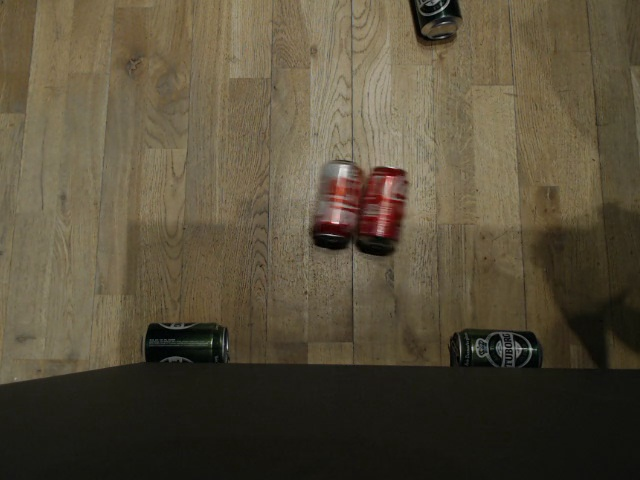beer: (139, 319, 233, 367), (448, 325, 545, 370), (404, 0, 461, 38)
cola: (309, 157, 364, 244), (353, 164, 412, 244)
